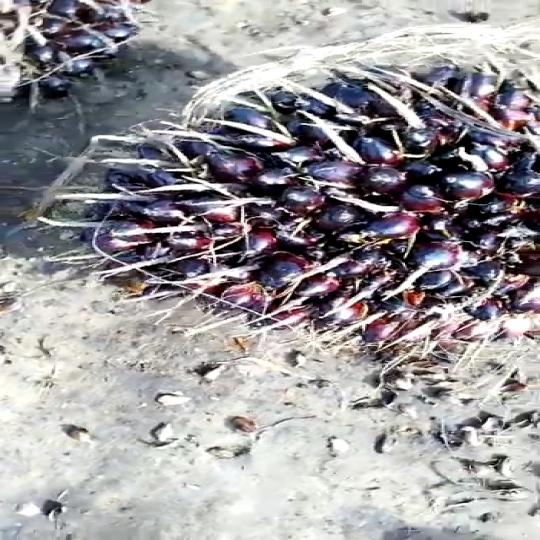mentah: (71, 34, 540, 352)
